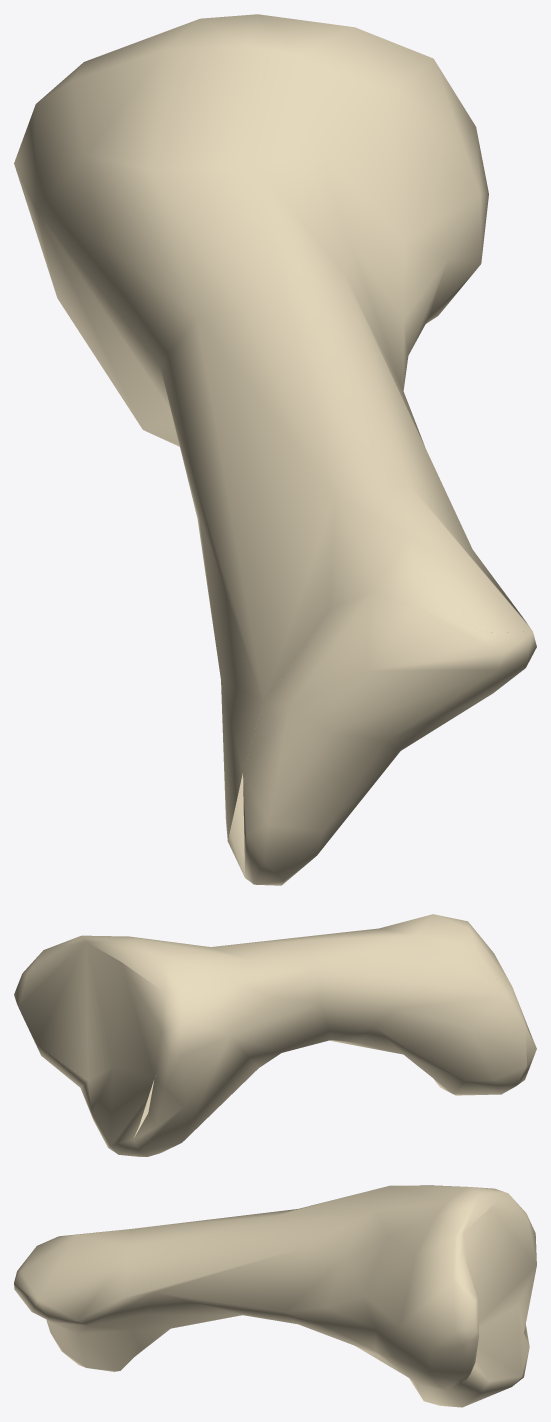
File: esqueleto-proximal-phalanx-of-fourth-finger-of-foot-r.glb
3 renders of one model, top to bottom at view 1: azimuth 30°, elevation 25°; view 2: azimuth 150°, elevation 25°; view 3: azimuth 270°, elevation 25°, orthographic. The views are drawn at different scales.
Parts seen in each view (by area): view 1: Proximal phalanx of fourth finger of foot.r; view 2: Proximal phalanx of fourth finger of foot.r; view 3: Proximal phalanx of fourth finger of foot.r.
Boxes of the visible parts, x1,y1,x2,y2 form: Proximal phalanx of fourth finger of foot.r: (14, 14, 536, 885); Proximal phalanx of fourth finger of foot.r: (14, 914, 536, 1156); Proximal phalanx of fourth finger of foot.r: (14, 1185, 536, 1407).
Bounding box in the file's own units: 0.0181 × 0.0137 × 0.026.
